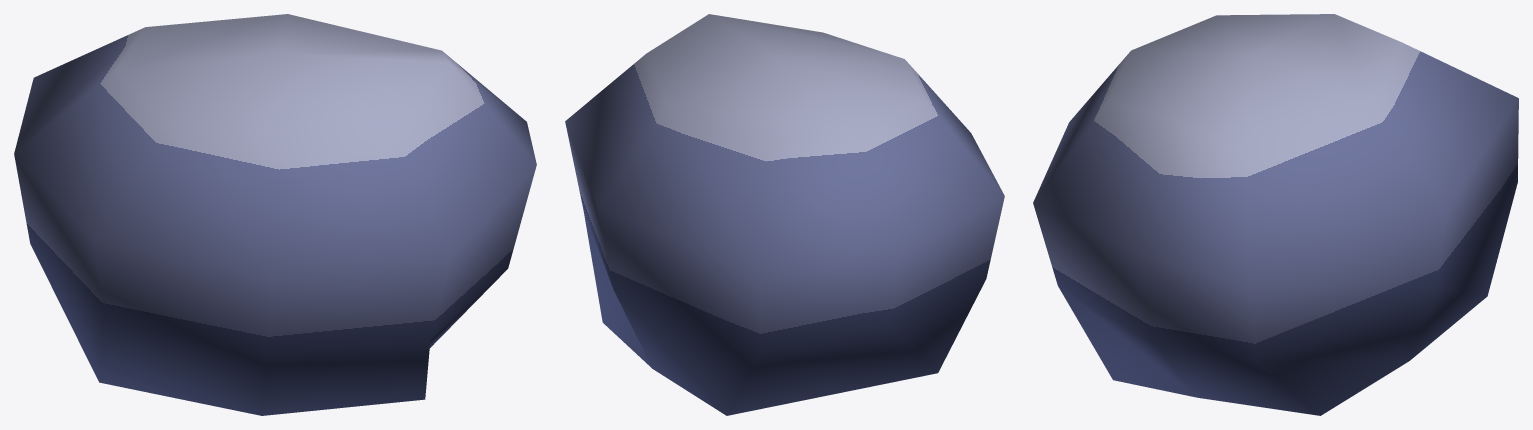
Rendered from map-rock-03.glb.
The picture shows the model from 3 angles, left to right: view 1: azimuth 30°, elevation 25°; view 2: azimuth 150°, elevation 25°; view 3: azimuth 270°, elevation 25°; orthographic projection. The views are drawn at different scales.
Visible parts, largest first — view 1: Rock03; view 2: Rock03; view 3: Rock03.
Boxes of the visible parts, <box> form: Rock03: <box>14,14,536,415</box>; Rock03: <box>565,14,1004,415</box>; Rock03: <box>1033,14,1518,415</box>.
Size of the model in its own units: 2.25 by 1.45 by 2.18.
Materials: 1 (1 with a texture image).
